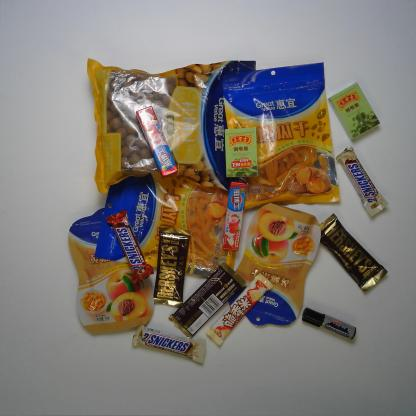Candy: (327, 77, 380, 143), (134, 104, 179, 176), (217, 126, 261, 183), (219, 179, 252, 253)
Chocolate: (168, 261, 246, 339), (314, 212, 387, 292), (207, 270, 275, 347), (105, 207, 156, 285), (336, 145, 386, 219), (130, 324, 212, 365), (152, 223, 192, 307)
Dried Food: (82, 58, 267, 200)
Dried Fruit: (93, 162, 248, 278), (220, 60, 341, 206), (67, 197, 161, 336), (227, 199, 326, 328)
Stationery: (298, 308, 363, 344)
